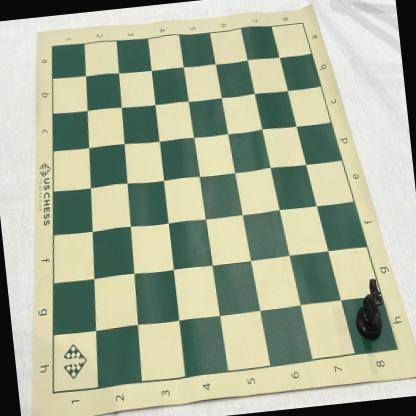black-knight: (351, 278, 385, 342)
